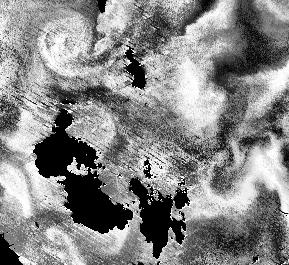AE: (31, 12, 104, 76)
